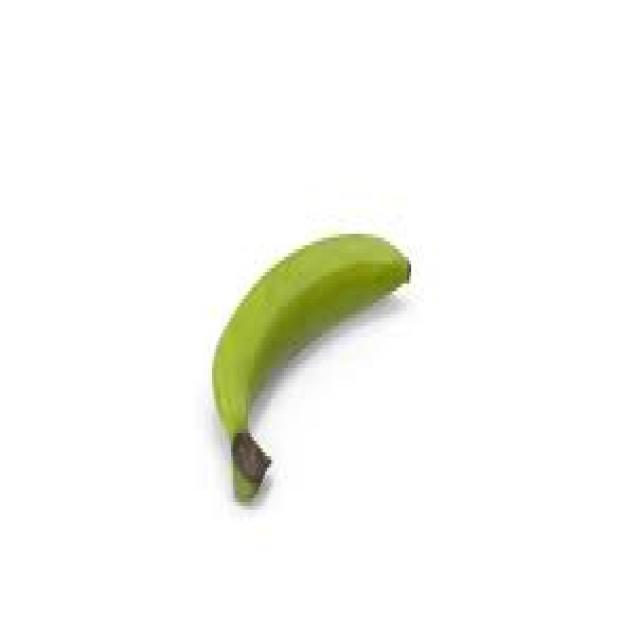banana: (210, 230, 411, 502)
